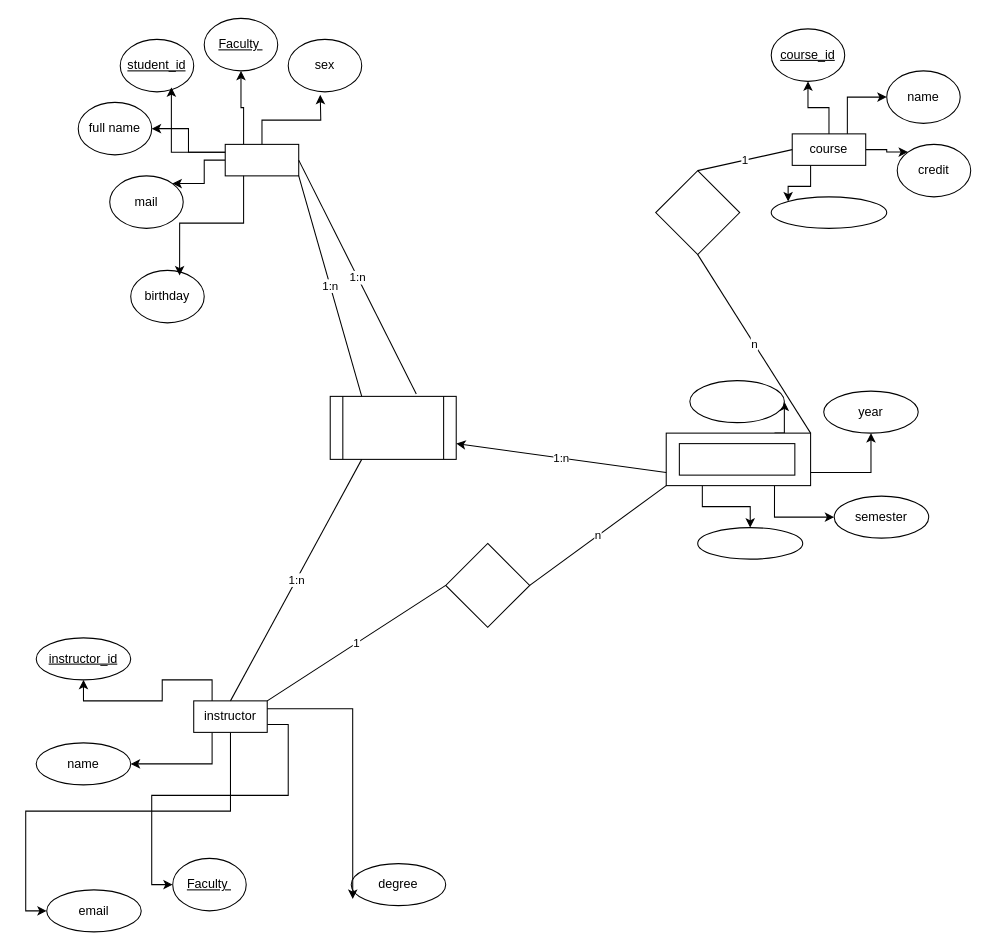
This 989x950 diagram has some shape labels left out. Here are the shapes that lost their labels. From the top down, the centre of each, then its label:
the point at 261,159: student
the point at 697,212: có thể có
the point at 828,212: khoa_phu_trach
the point at 736,401: classroom
the point at 392,427: Enrollment
the point at 736,459: class_section
the point at 750,543: class_section_id
the point at 487,584: dạy
